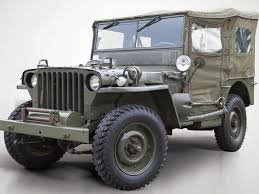mobil: (18, 21, 249, 188)
